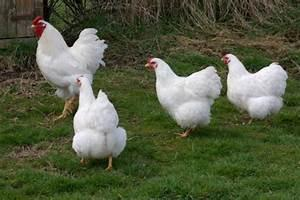hen: (30, 15, 108, 122), (144, 56, 222, 138), (71, 75, 127, 171), (220, 52, 288, 127)
